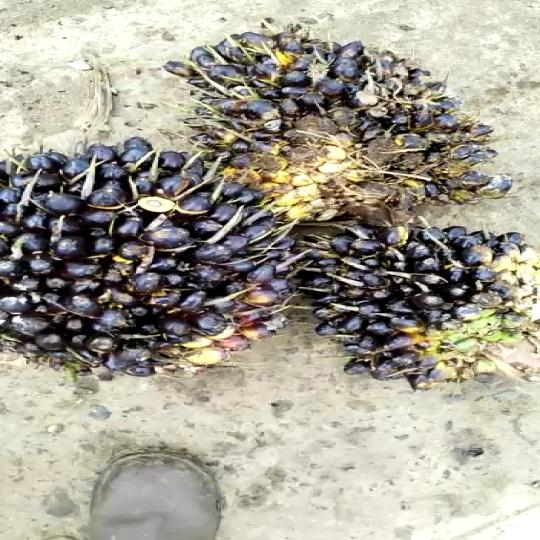mentah: (0, 124, 303, 388), (145, 36, 506, 228), (280, 222, 540, 404)
